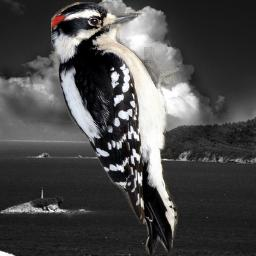Woodpecker: (51, 2, 179, 255)
